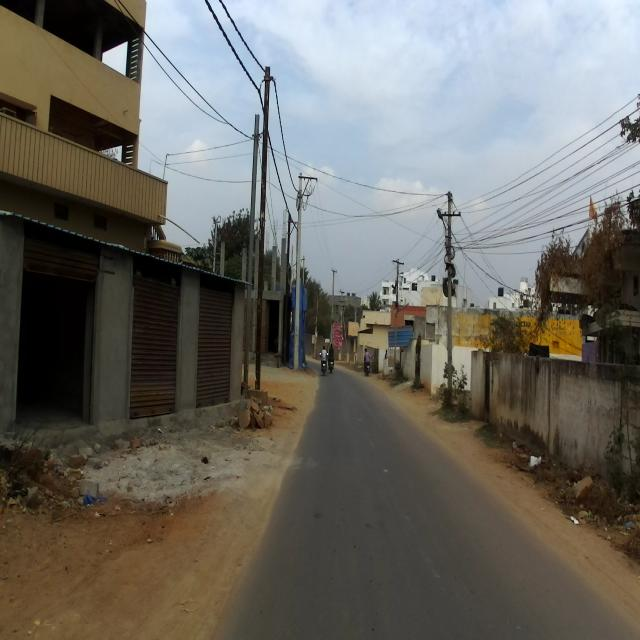electric pole ahead at: (248, 61, 280, 396), (434, 186, 466, 412), (291, 165, 318, 377)
